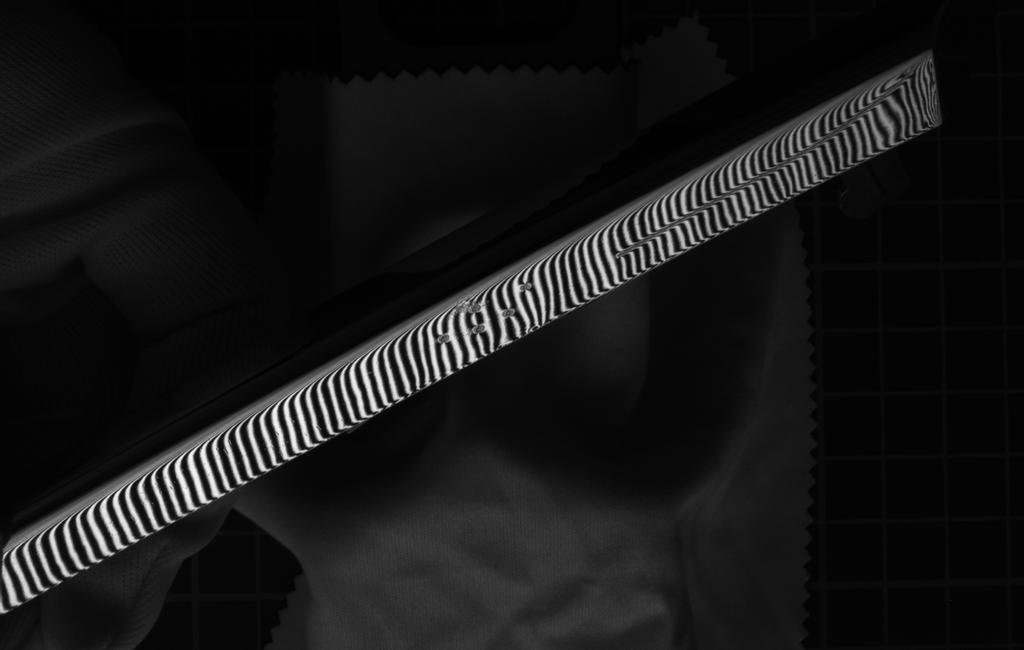Pierced: (465, 319, 491, 336), (434, 328, 454, 349), (463, 300, 487, 317), (496, 306, 521, 321), (513, 279, 534, 294)
Pitting: (448, 303, 479, 313)
Scratch: (605, 70, 916, 264)
